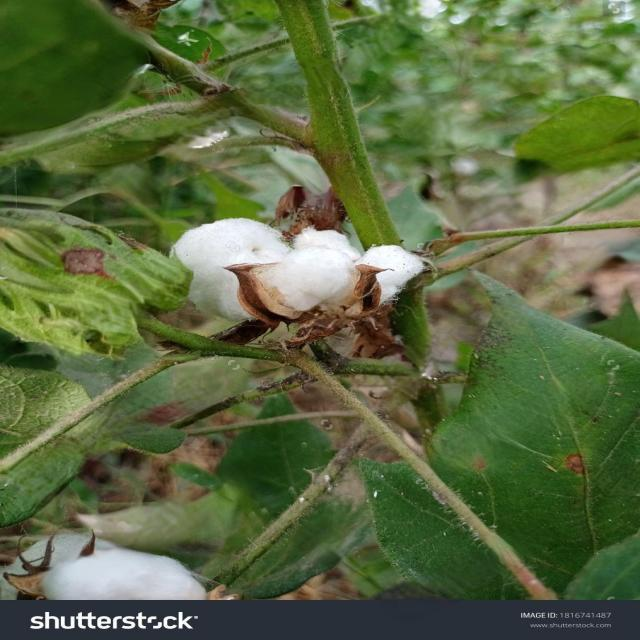Leaf: (170, 199, 462, 375), (30, 527, 234, 598)
